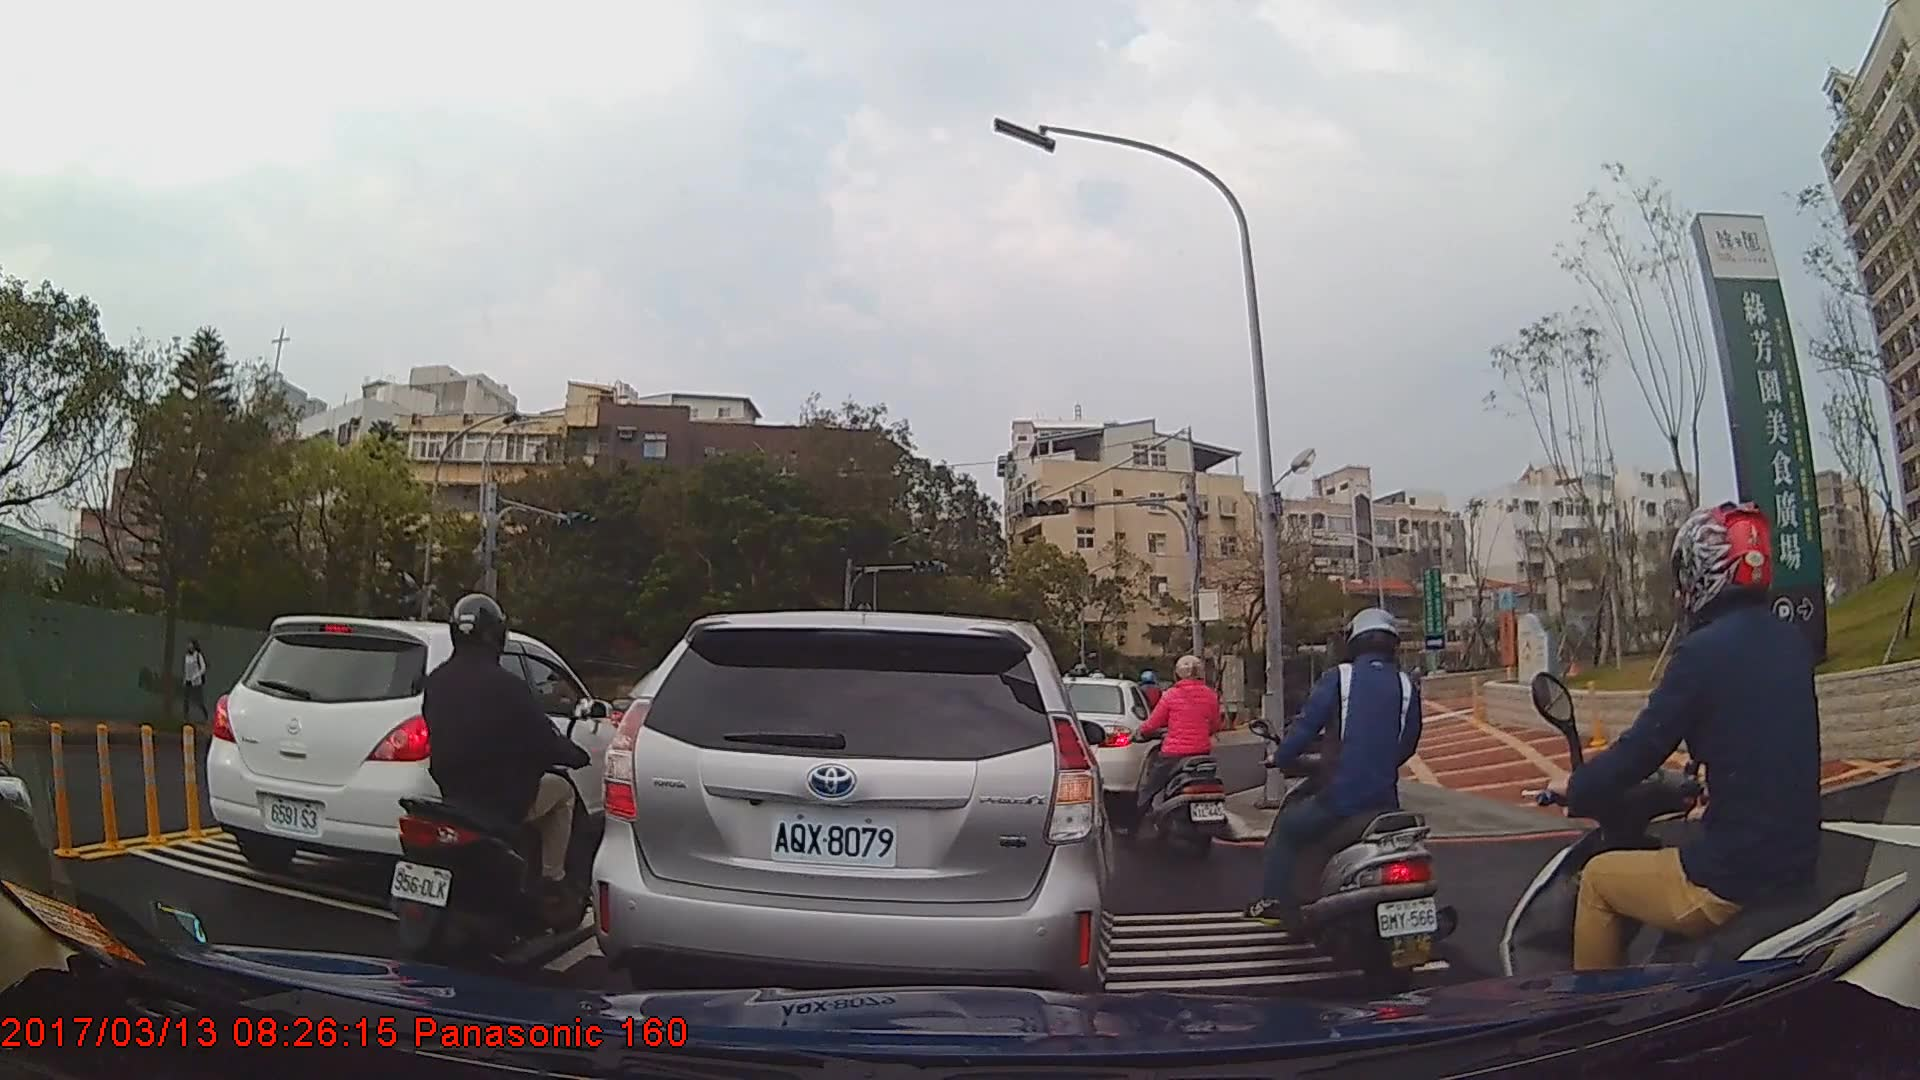pedestrian: (180, 638, 213, 721)
rider: (1495, 501, 1906, 1059), (385, 593, 594, 975), (1259, 609, 1444, 984), (1123, 653, 1231, 864)
vehicle: (592, 609, 1119, 999), (207, 612, 631, 904)
